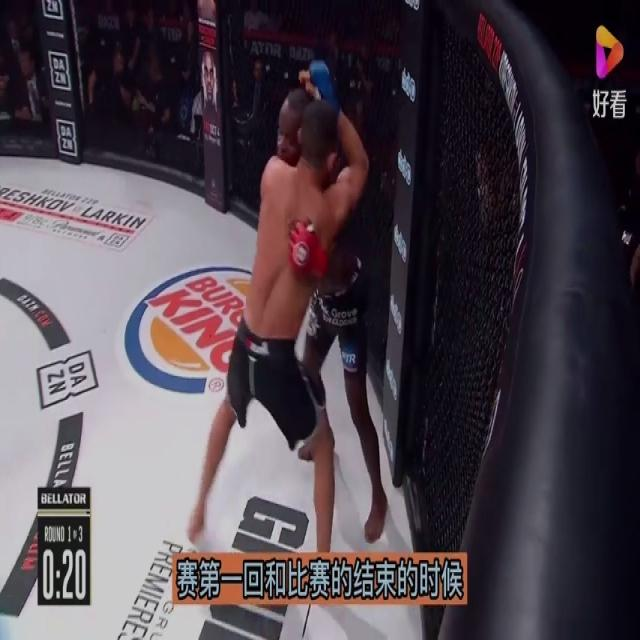fight: (179, 47, 397, 553)
